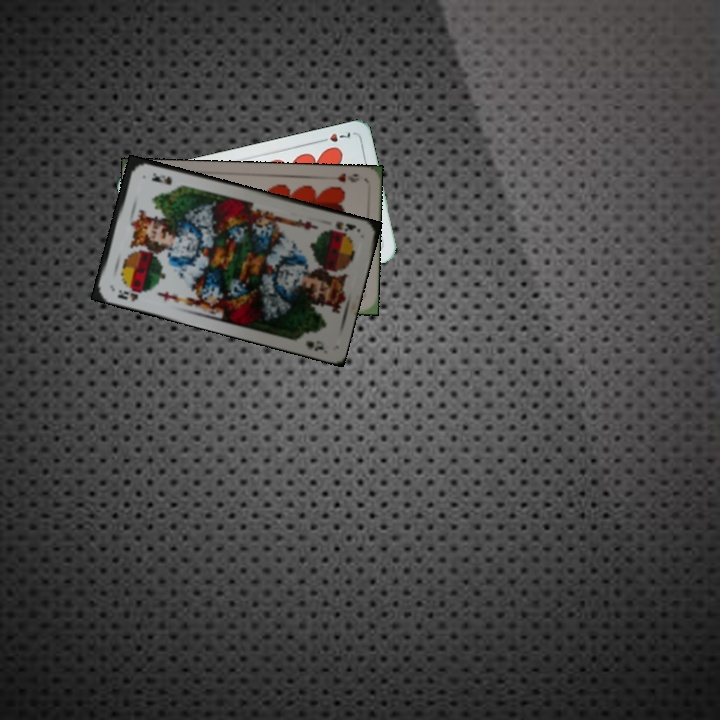H7: (315, 128, 354, 145)
H9: (325, 169, 362, 185)
SK: (113, 282, 150, 304), (325, 217, 359, 237)
